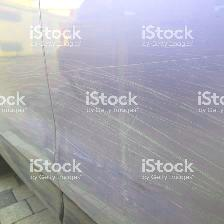door_scratch: (4, 56, 211, 200)
